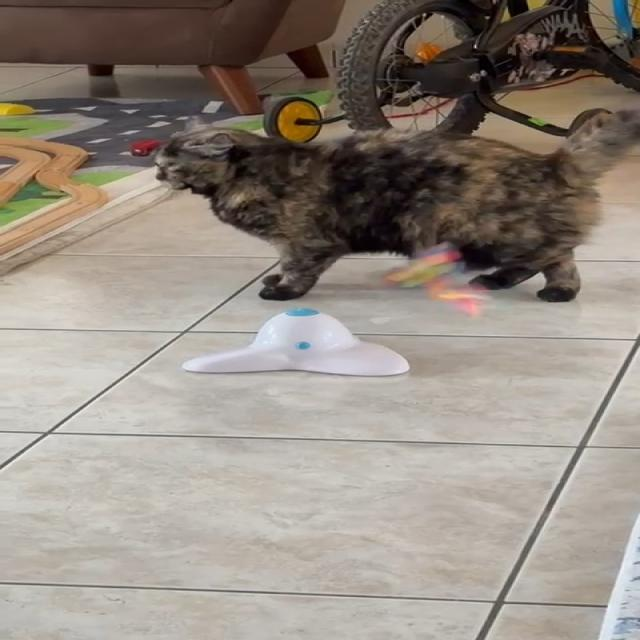authorized: (151, 106, 638, 304)
